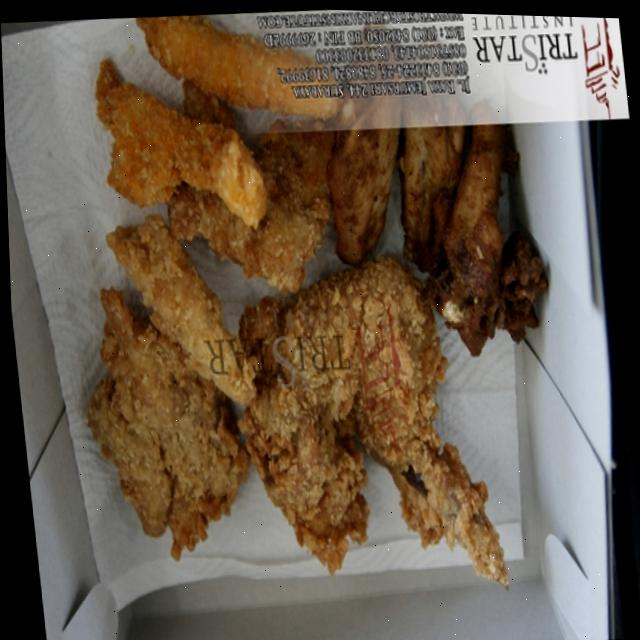鸡肉料理 含炸鸡: (23, 14, 610, 640)
